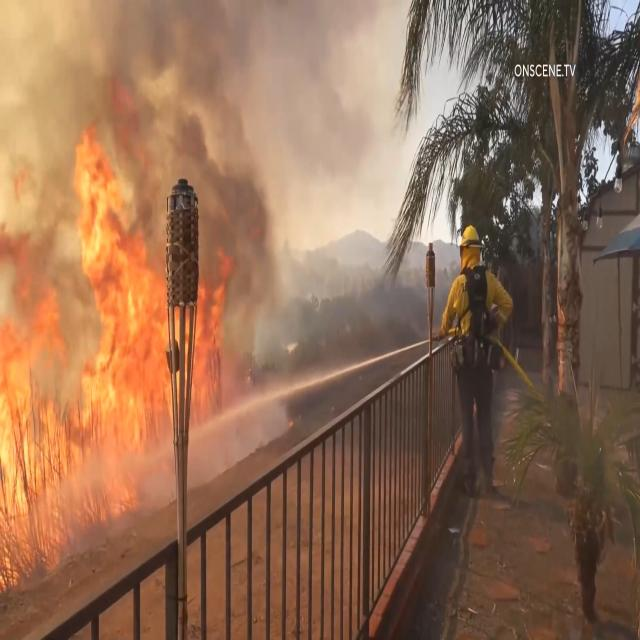fire: (0, 140, 162, 518)
smoke: (1, 2, 374, 138), (204, 111, 275, 253)
